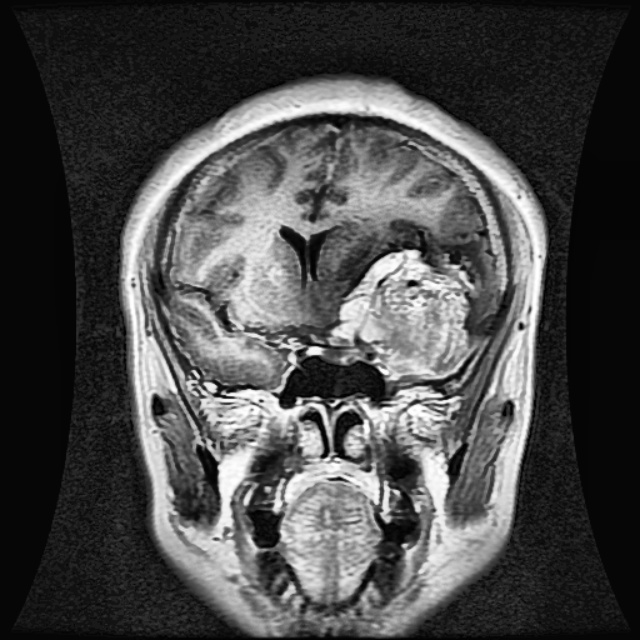Glioma: (330, 248, 479, 380)
